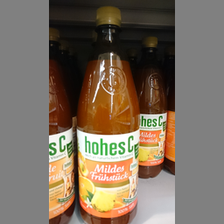juice: (76, 7, 140, 224), (137, 35, 167, 178)
